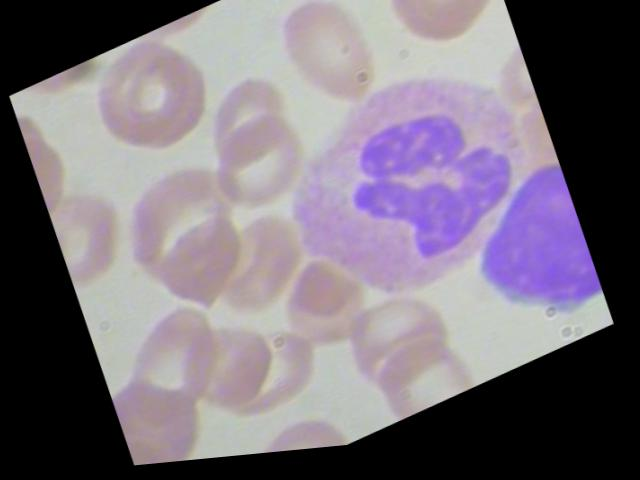Red Blood Cells: (255, 0, 403, 139), (161, 298, 299, 442), (76, 23, 210, 167), (334, 281, 468, 425), (193, 106, 317, 234), (362, 320, 490, 437), (190, 67, 303, 187), (368, 0, 514, 82), (10, 51, 119, 117), (233, 402, 355, 460)
White Blood Cells: (257, 44, 569, 360), (451, 159, 614, 365)
